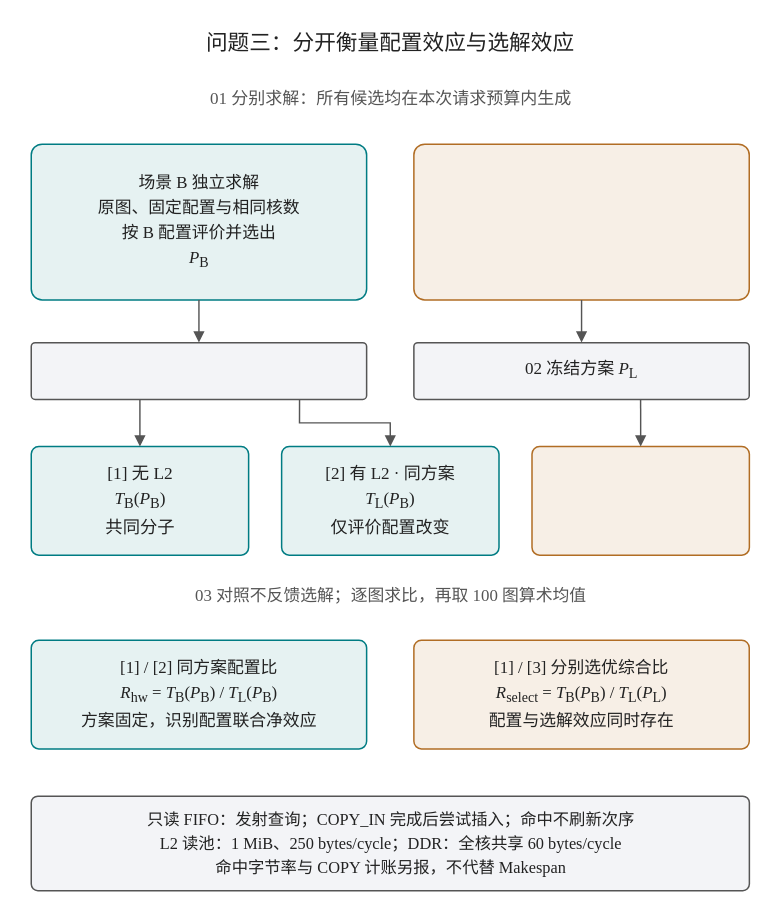
Image size: 780x913. Some labels were removed from this diagram. The centre of each missing label's shape, as x and y in pixels:
"02 冻结方案 P B" goes at pixel 198 370.
"[3] 有 L2 · 另选方案 T L ( P L ) 包含方案变化" goes at pixel 640 500.
"L2 配置下独立求解 本场景候选＋重新生成 B 类候选 先按 L2 重评，再插入与微批 P L" goes at pixel 580 221.
